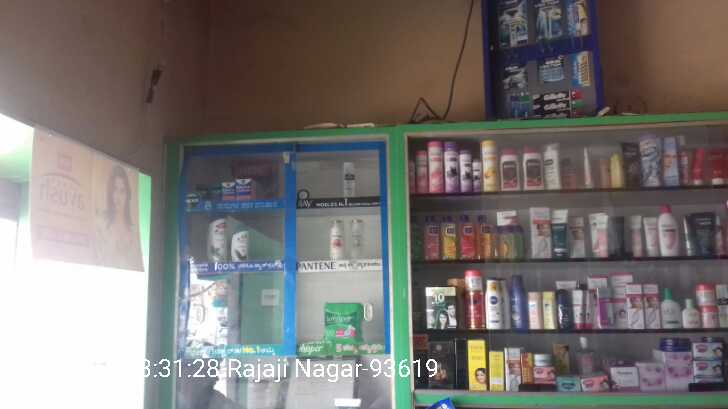vicks: (200, 177, 257, 202)
